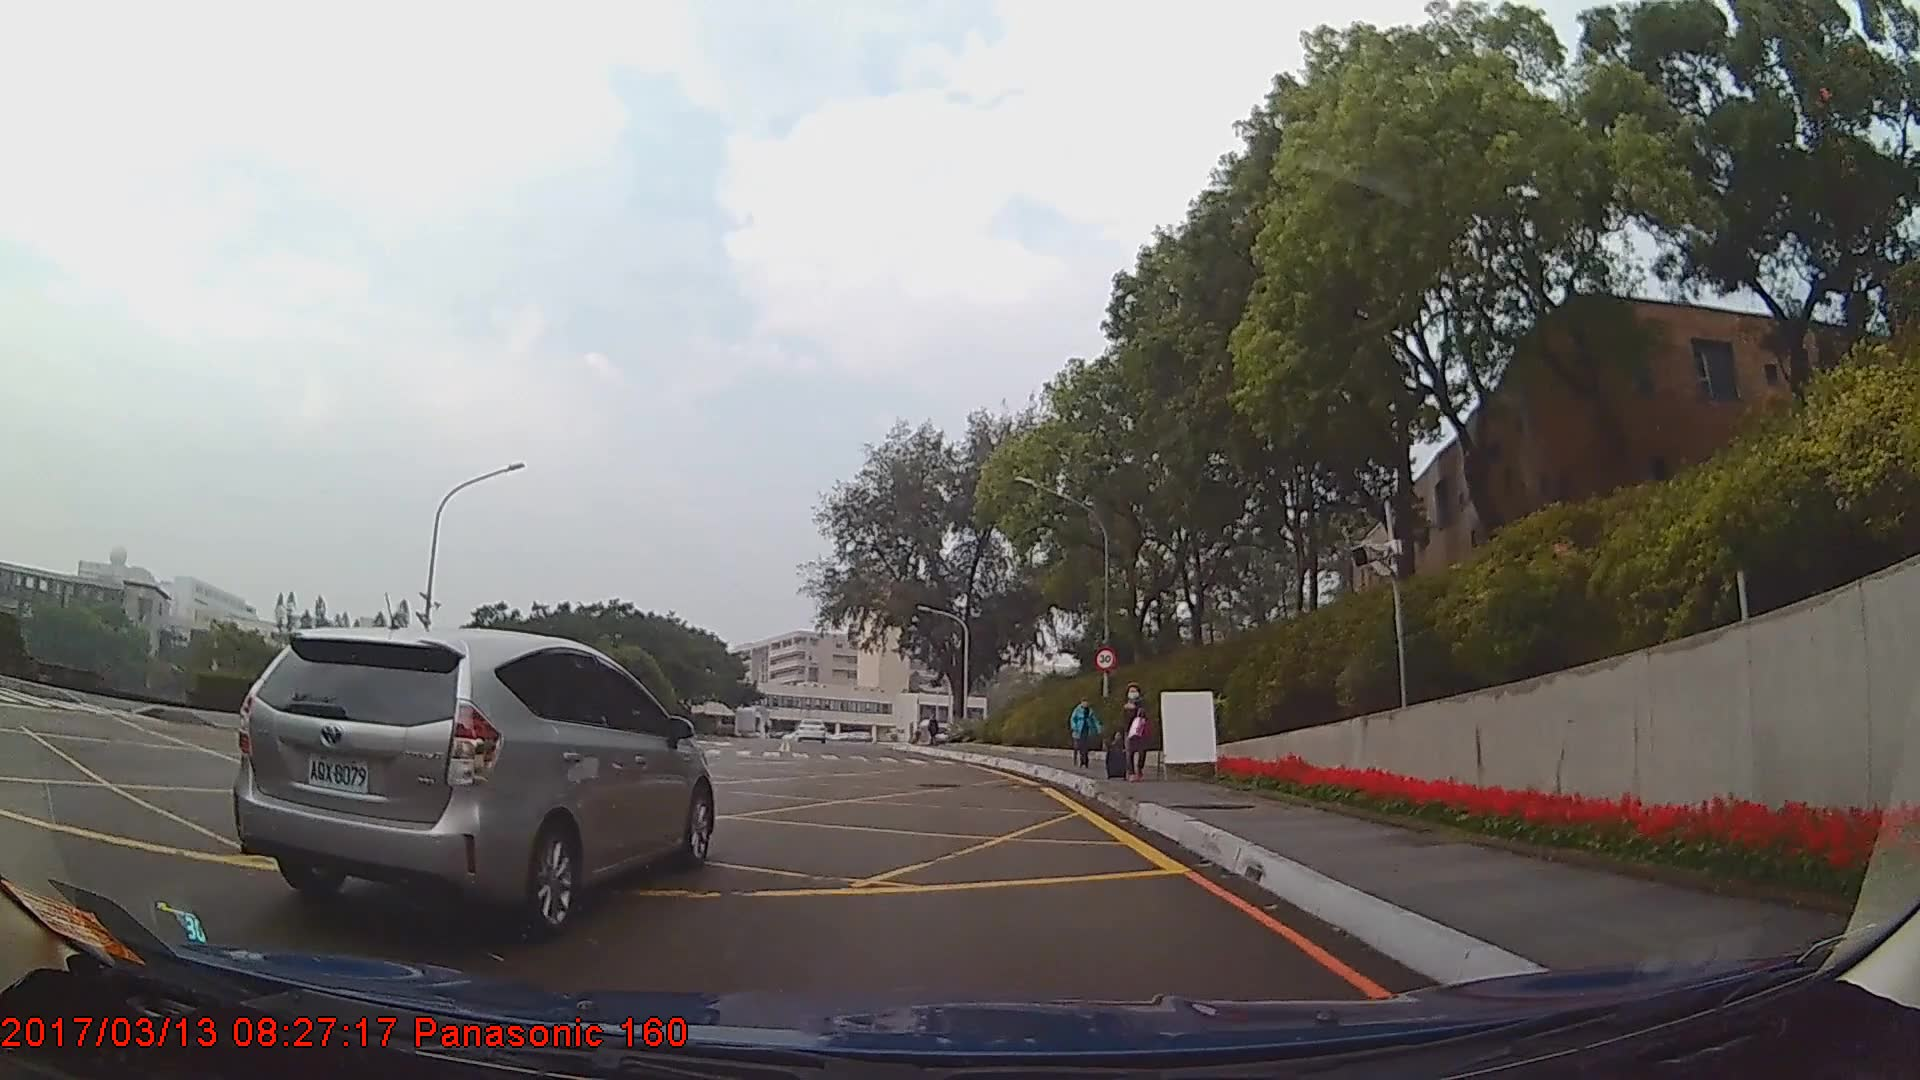pedestrian: (1111, 682, 1159, 780), (1072, 694, 1101, 772)
vehicle: (228, 626, 716, 939), (795, 715, 829, 742)
